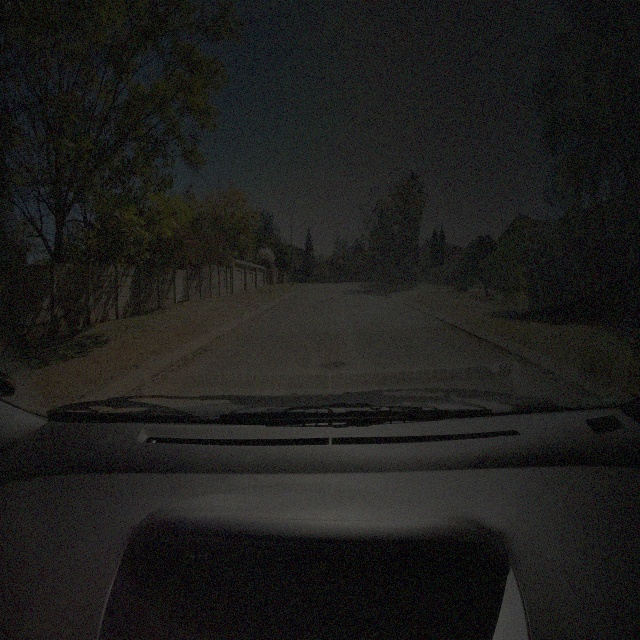pothole: (322, 360, 347, 371)
